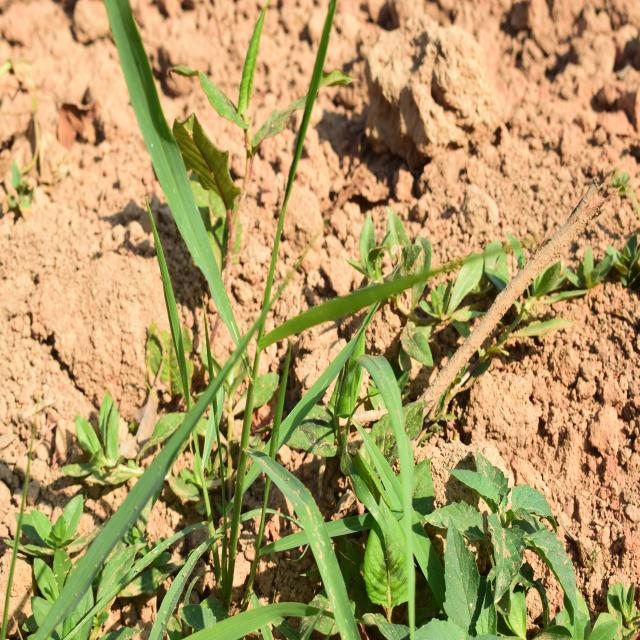green_foxtail: (117, 7, 414, 502)
